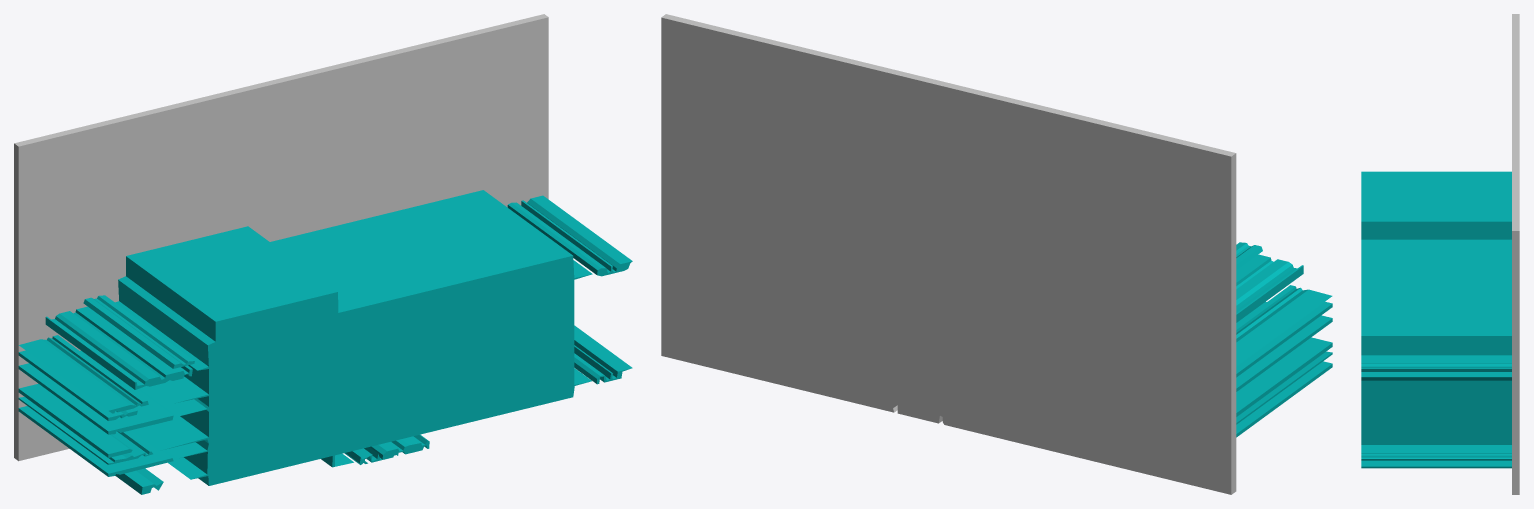
3 renders of one model, left to right at view 1: azimuth 30°, elevation 25°; view 2: azimuth 150°, elevation 25°; view 3: azimuth 270°, elevation 25°, orthographic. The views are drawn at different scales.
Parts seen in each view (by area): view 1: world; view 2: world; view 3: world.
Part boxes in pixels (<box>): world: <box>14,14,632,494</box>; world: <box>661,14,1332,494</box>; world: <box>1361,14,1519,494</box>.
Bounding box in the file's own units: 10.23 × 5.8 × 3.15.
